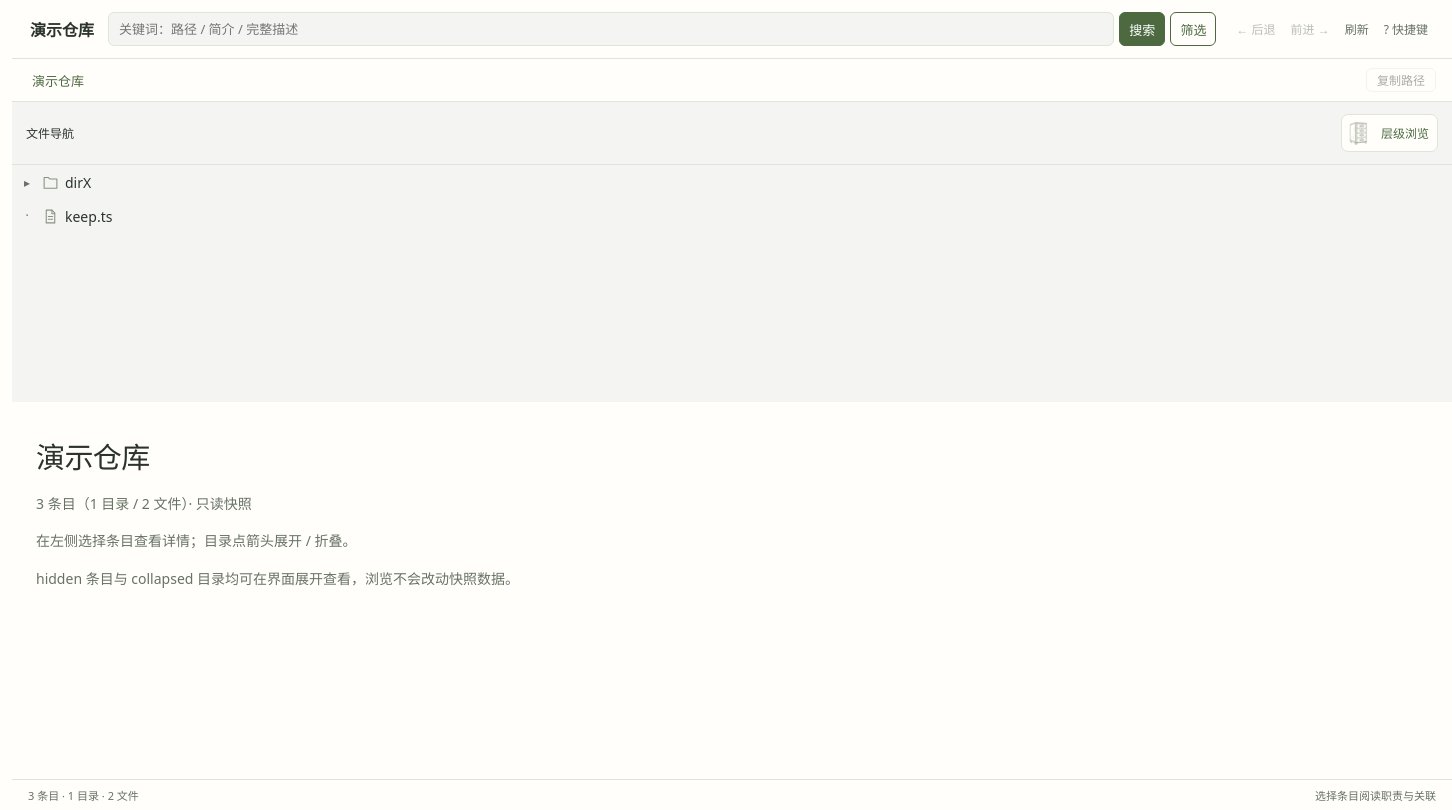
Test: 浏览布局与控制层页面契约 › 列目录请求失败可重试，空目录区别于加载失败
The image size is (1452, 810).
expect the text "dirX" is shown: met, box [65,172,91,192]
Click the button "层级浏览".
click(1390, 133)  # box [1341,114,1438,152]
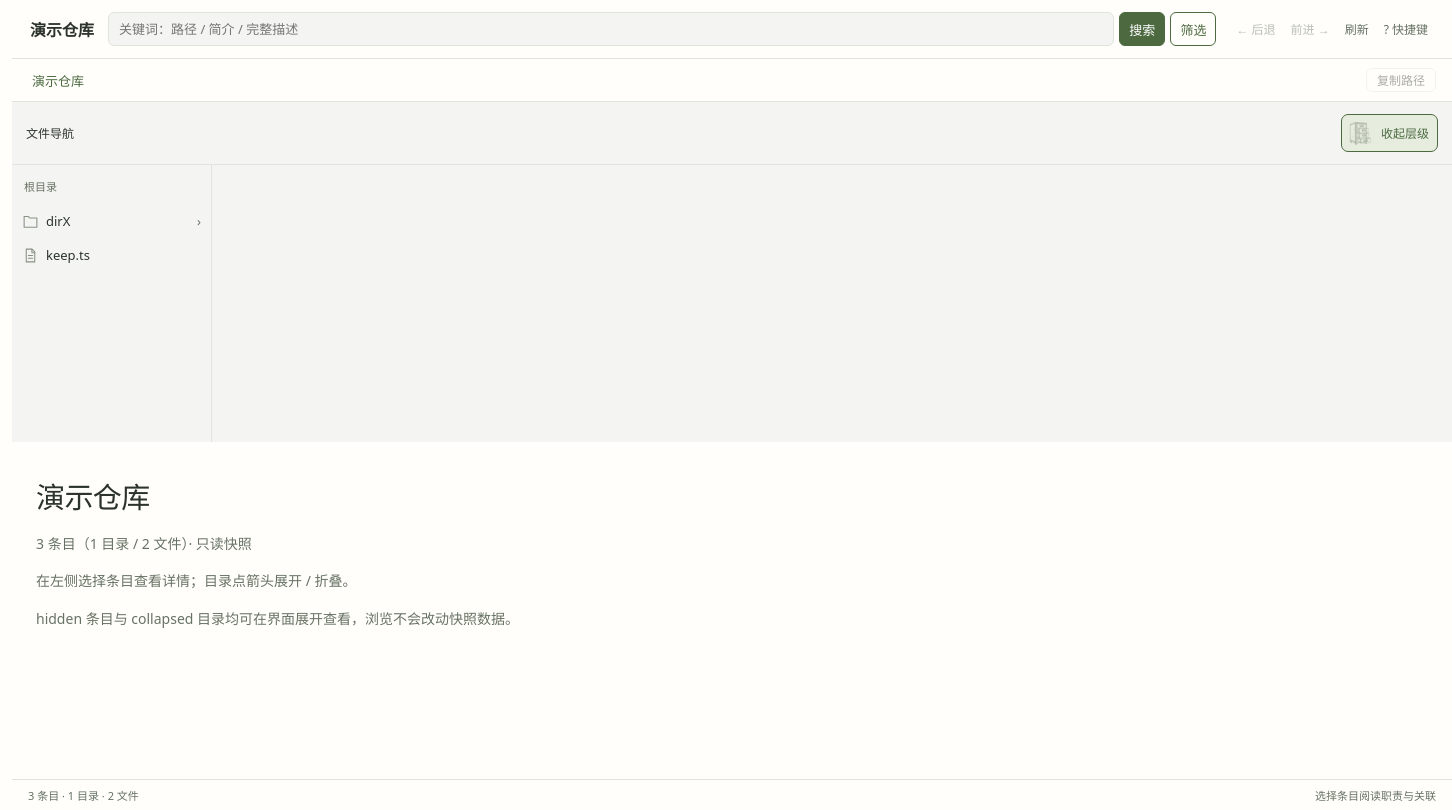
Click the option "dirX ›".
click(112, 221)  # box [12,204,211,238]
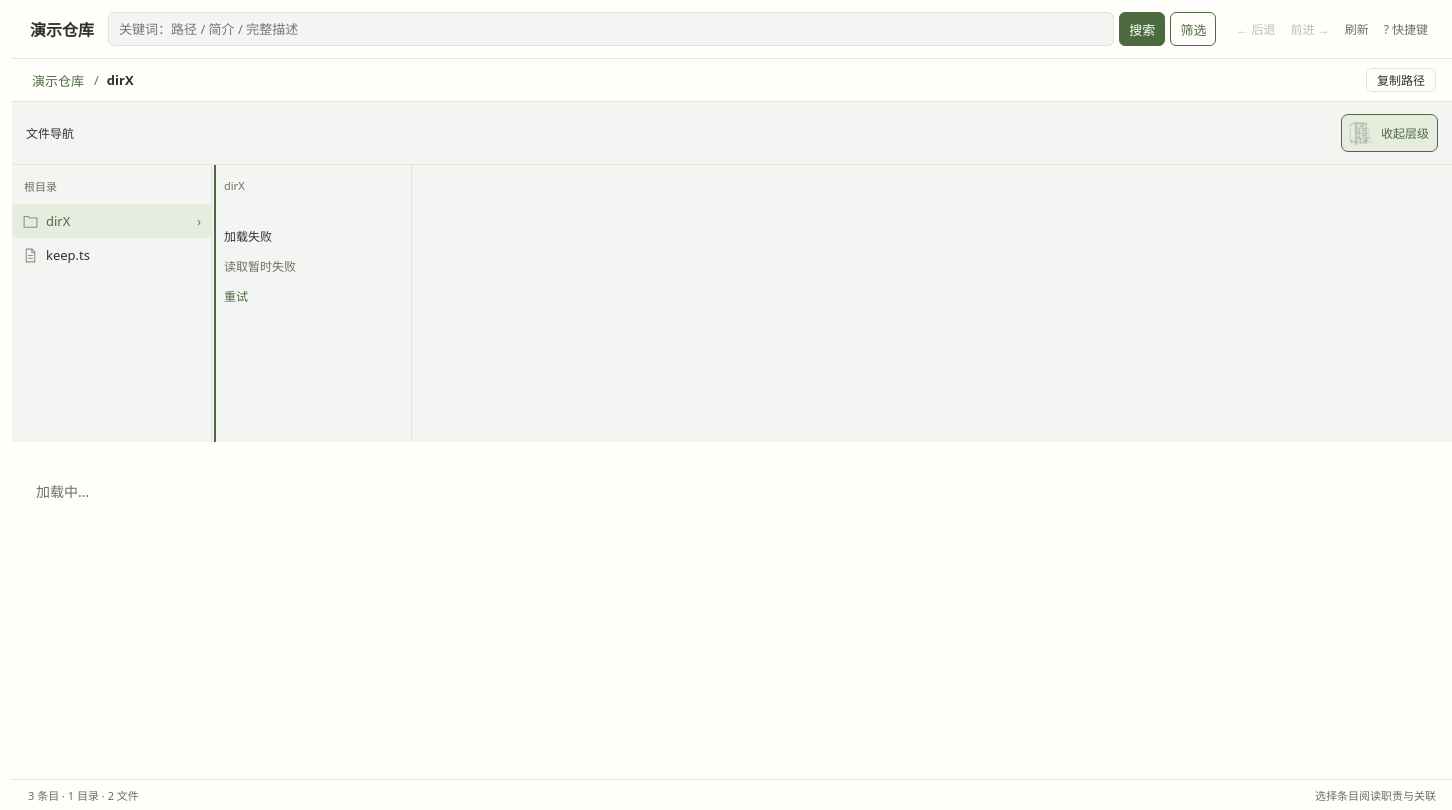
expect the text "加载失败" is shown: met, box [224,228,272,245]
Press Enter in the button "重试", box [224,287,248,305]
Click the button "重试".
click(236, 296)  # box [224,287,248,305]
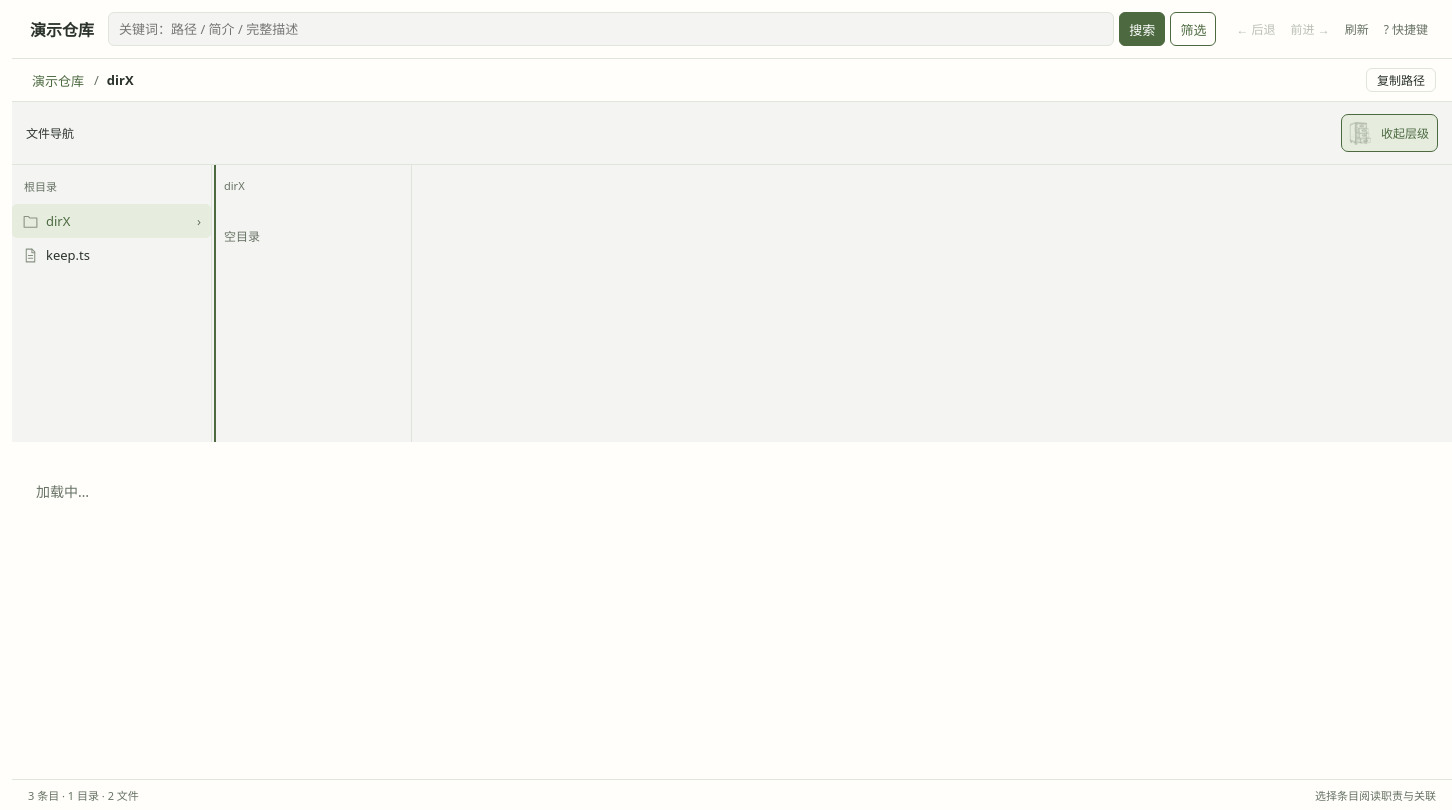
expect the text "空目录" is shown: met, box [224,228,260,245]
expect the text "加载失败" is gone: met
